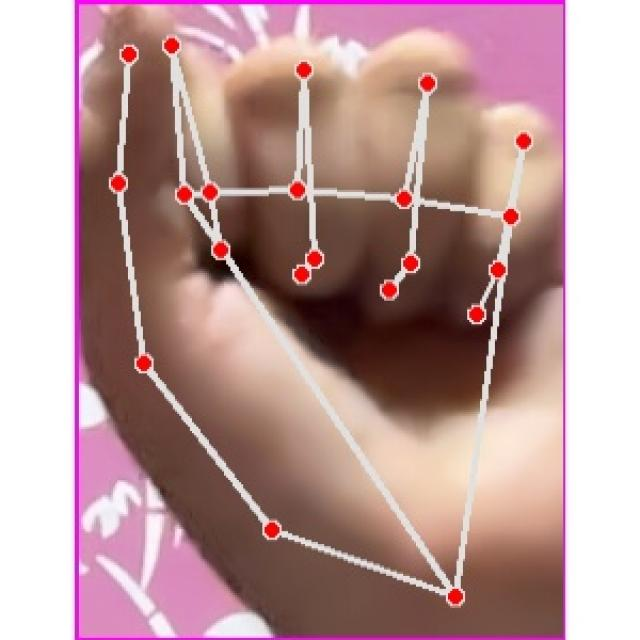A: (86, 4, 564, 640)
